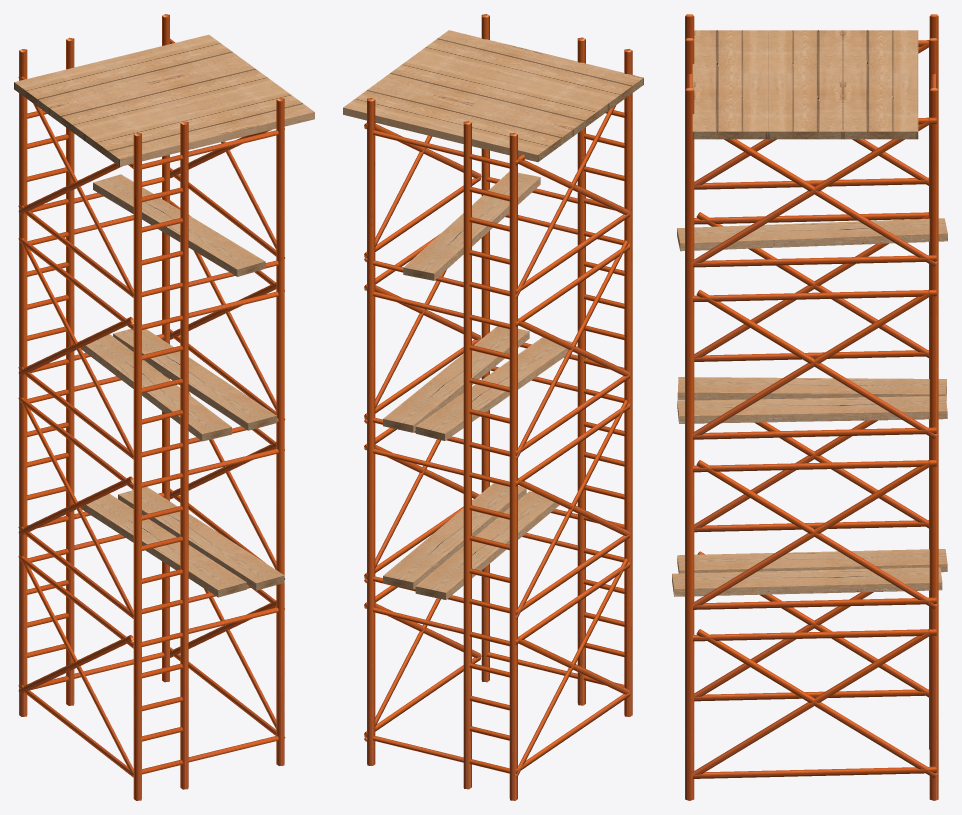
Rendered from MetalPlatform.FBX.
3 renders of one model, left to right at view 1: azimuth 30°, elevation 25°; view 2: azimuth 150°, elevation 25°; view 3: azimuth 270°, elevation 25°, orthographic. The views are drawn at different scales.
Parts seen in each view (by area): view 1: Box025, Cylinder090, Cylinder089, Cylinder099, Cylinder015, Cylinder131, Box031, Box029, Box027, Box026, Box028, Cylinder014 (+30 smaller); view 2: Box025, Cylinder014, Cylinder015, Cylinder131, Cylinder090, Cylinder099, Box029, Box026, Box028, Box031, Box027, Cylinder089 (+32 smaller); view 3: Box025, Cylinder089, Cylinder014, Box031, Box029, Box026, Box028, Box027, Cylinder143, Cylinder139, Cylinder135, Cylinder140 (+25 smaller).
Part boxes in pixels (x1,y1,x2,y2): Box025: (14,34,314,166); Cylinder090: (133,132,141,800); Cylinder089: (276,98,284,765); Cylinder099: (180,121,188,789); Cylinder015: (19,49,27,716); Cylinder131: (66,37,74,705); Box031: (93,174,265,276); Box029: (113,329,276,430); Box027: (81,493,246,597); Box026: (118,486,284,590); Box028: (81,334,231,441); Cylinder014: (162,14,169,682); Box025: (343,30,643,162); Cylinder014: (367,98,375,765); Cylinder015: (509,132,517,800); Cylinder131: (463,121,471,789); Cylinder090: (624,49,632,716); Cylinder099: (577,37,585,705); Box029: (383,326,529,432); Box026: (383,483,526,589); Box028: (415,337,572,440); Box031: (403,171,540,280); Box027: (415,491,559,599); Cylinder089: (481,14,489,682); Box025: (692,30,918,139); Cylinder089: (685,88,694,800); Cylinder014: (929,88,938,800); Box031: (677,218,947,251); Box029: (677,396,947,423); Box026: (672,567,942,596); Box028: (677,377,946,400); Box027: (677,549,947,573); Cylinder143: (691,629,930,775); Cylinder139: (691,460,930,606); Cylinder135: (691,290,930,436); Cylinder140: (696,460,937,609).
Size of the model in its own units: 58.03 by 66.67 by 189.
Materials: 1 (1 with a texture image).
